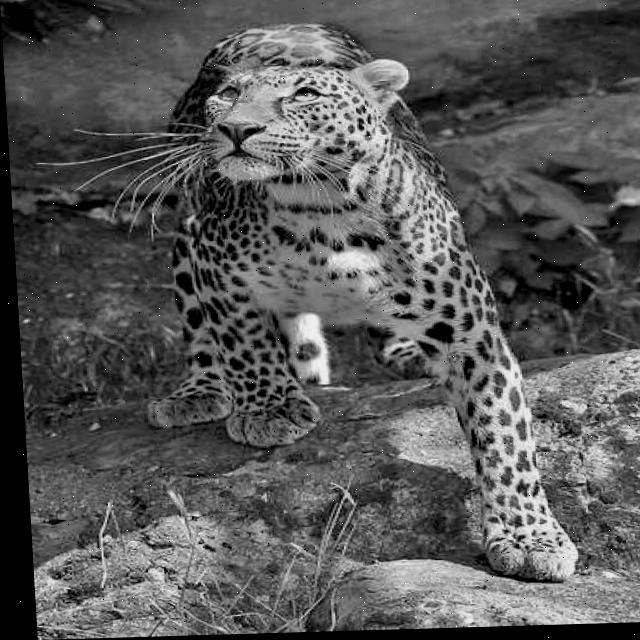Leopard: (27, 13, 581, 596)
